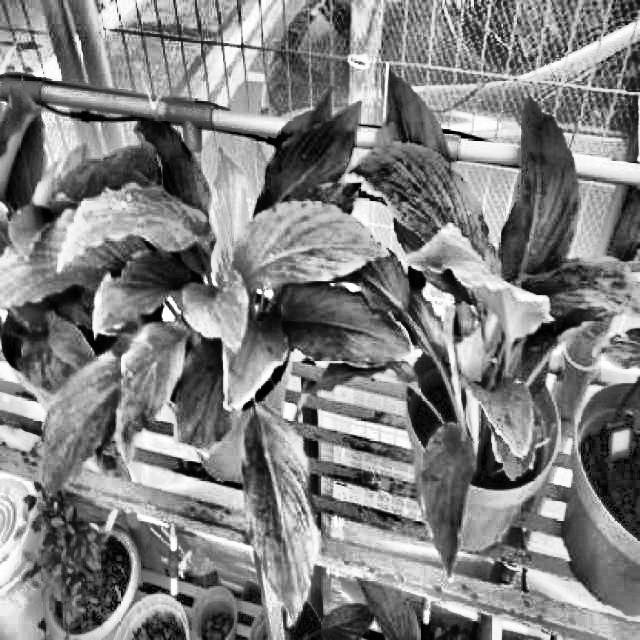plants: (37, 85, 412, 627), (295, 62, 640, 580)
